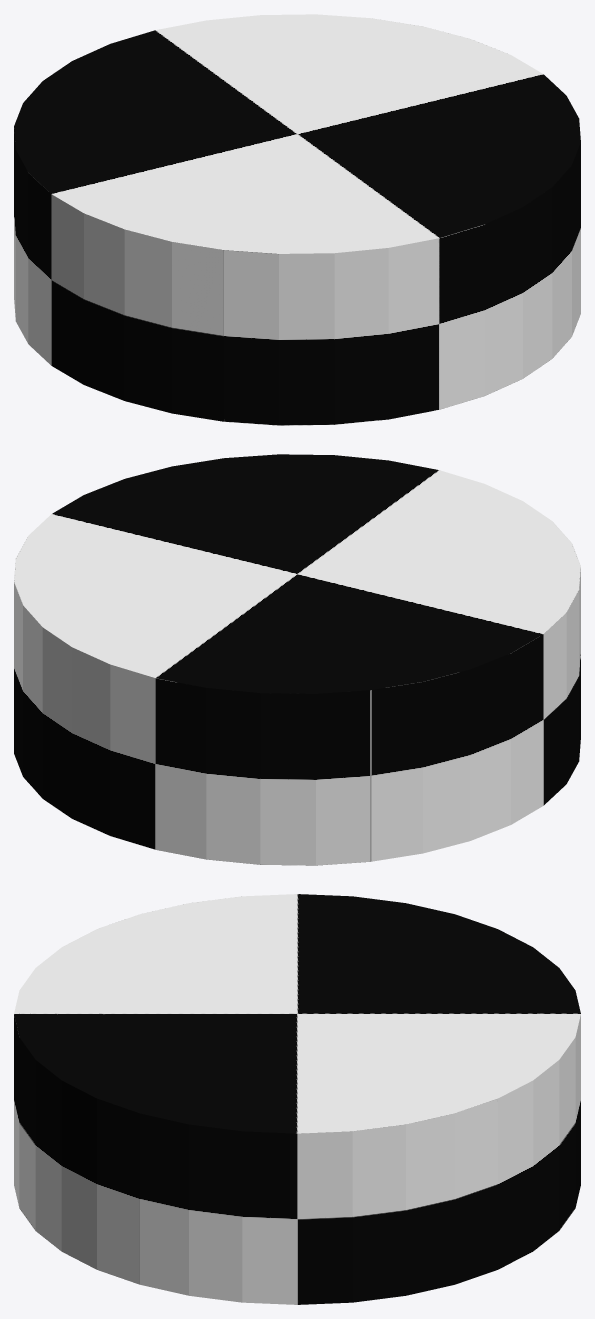
File: tote_wheel_test.dae
The picture shows the model from 3 angles, top to bottom: view 1: azimuth 30°, elevation 25°; view 2: azimuth 150°, elevation 25°; view 3: azimuth 270°, elevation 25°; orthographic projection.
Parts seen in each view (by area): view 1: Cylinder; view 2: Cylinder; view 3: Cylinder.
Boxes of the visible parts, bbox=[...] form: Cylinder: bbox=[14, 14, 580, 425]; Cylinder: bbox=[14, 454, 580, 865]; Cylinder: bbox=[14, 894, 580, 1304].
Bounding box in the file's own units: 0.3 × 0.3 × 0.1.
Materials: 1 (1 with a texture image).
